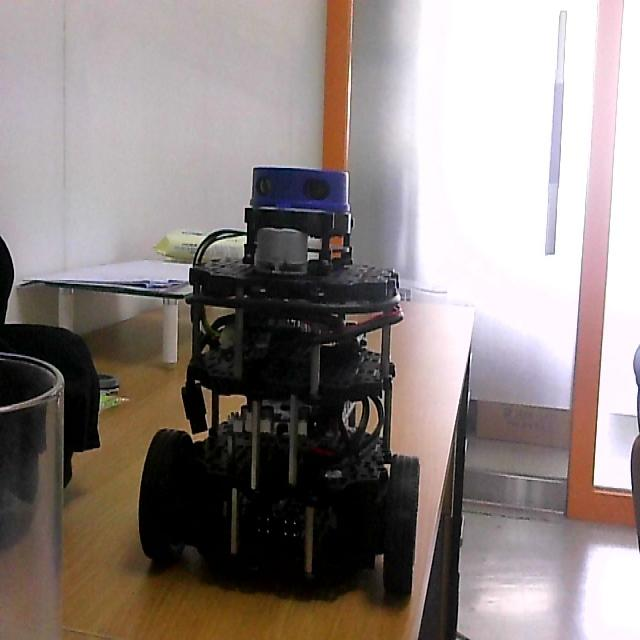turtle: (136, 166, 422, 612)
